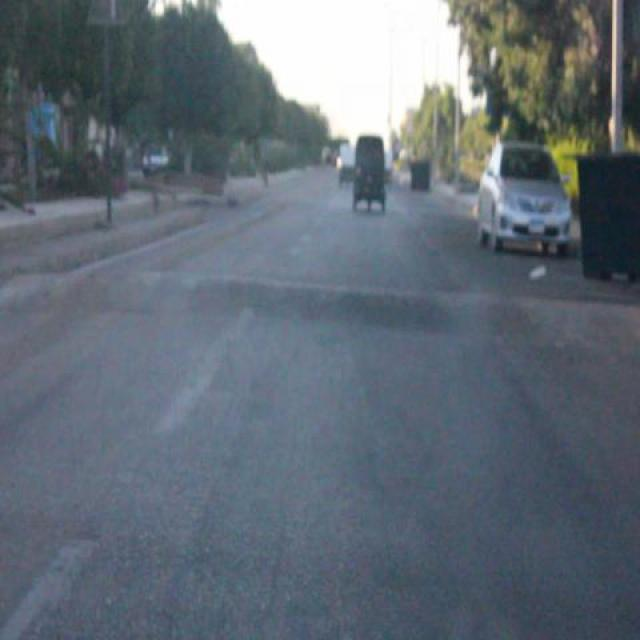Unmarked Bump: (0, 270, 640, 357)
